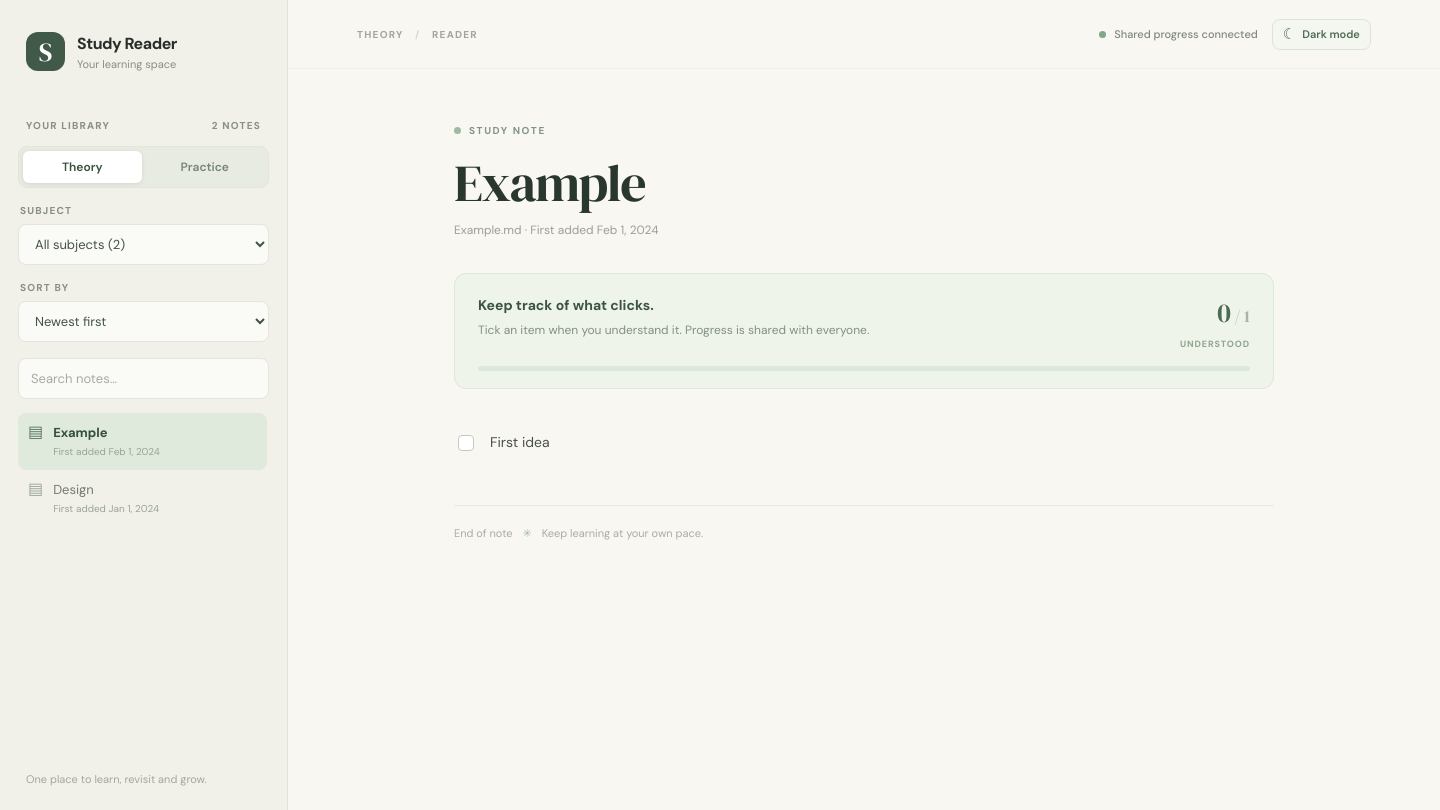
Test case: reader UI with a simulated progress service › filters notes by their content
This screenshot has width=1440, height=810.
In the field labelled "Search notes…": x=144, y=378 [18,358,269,399], type "missing"
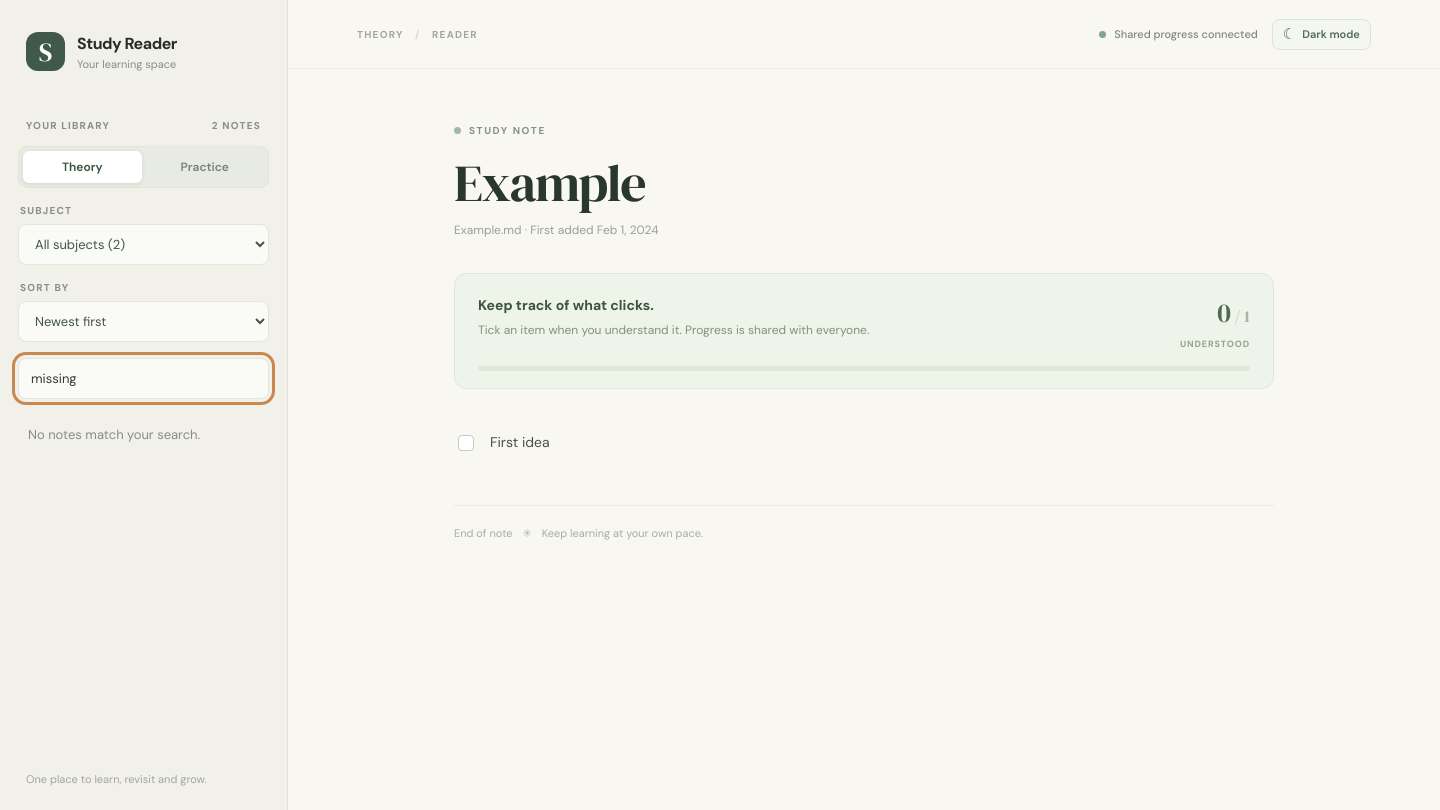
Check: the text "No notes match your search." is shown, box [28,426,200,443]
